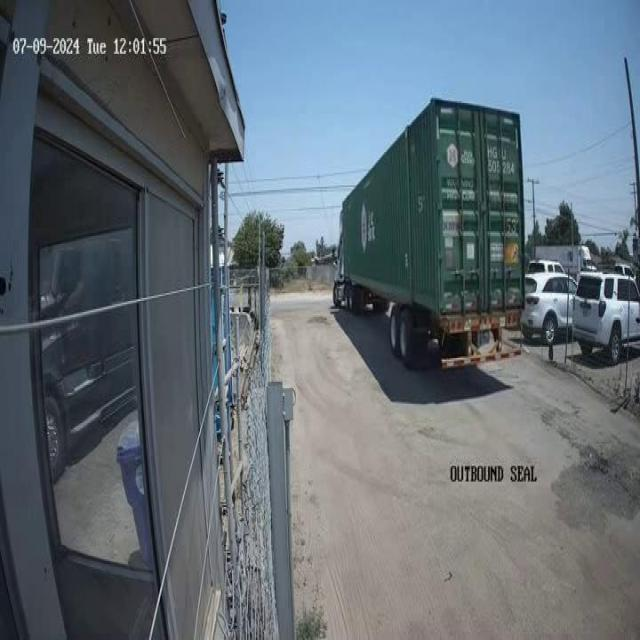CONTAINER: (340, 95, 526, 324)
